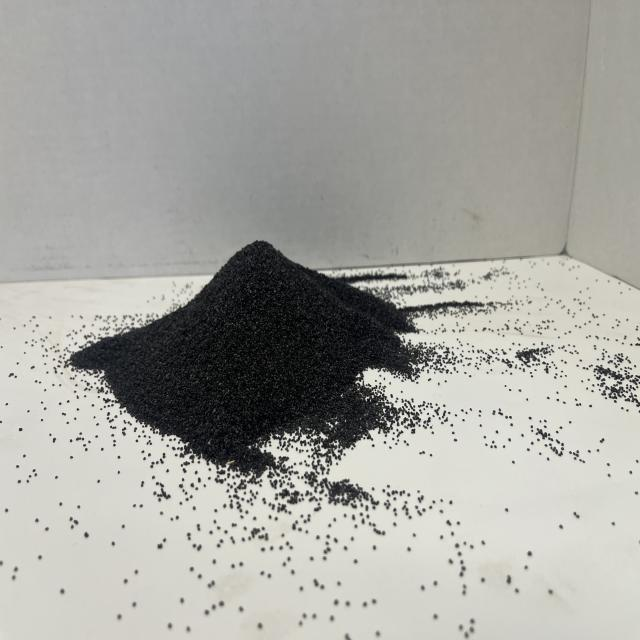Poppy Seeds: (58, 209, 455, 512)
